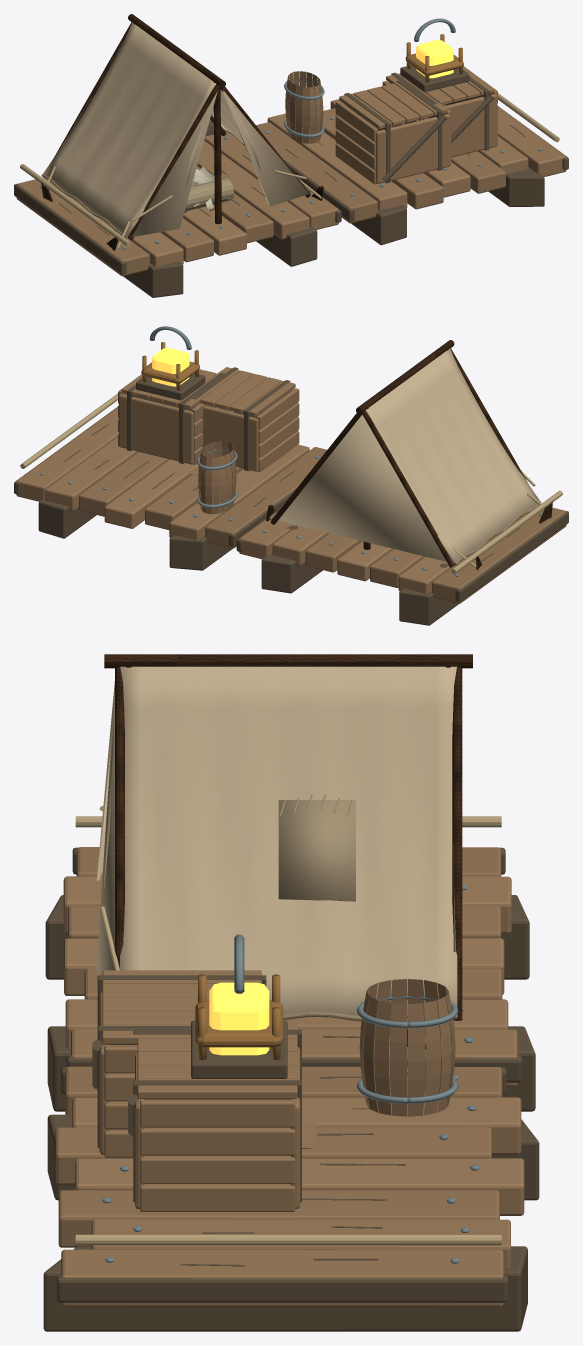
Rendered from root-decor.glb.
3 renders of one model, top to bottom at view 1: azimuth 30°, elevation 25°; view 2: azimuth 150°, elevation 25°; view 3: azimuth 270°, elevation 25°, orthographic. The views are drawn at different scales.
Visible parts, largest first — view 1: GEO-root-decor-2742, GEO-Tent-MAT-Tent-WaxedLinen, GEO-root-decor-2208, GEO-Tent-MAT-DarkTimber, GEO-root-decor-1440, GEO-DecorativeLantern-GEO-lamp-54, GEO-DecorativeLantern-GEO-lamp-148, GEO-Tent-MAT-Tent-WeatheredPatch, GEO-DecorativeLantern-Glass, GEO-root-decor-3068, GEO-Tent-MAT-Hemp; view 2: GEO-root-decor-2742, GEO-Tent-MAT-Tent-WaxedLinen, GEO-root-decor-2208, GEO-Tent-MAT-DarkTimber, GEO-root-decor-1440, GEO-DecorativeLantern-GEO-lamp-54, GEO-DecorativeLantern-GEO-lamp-148, GEO-DecorativeLantern-Glass, GEO-root-decor-3068; view 3: GEO-root-decor-2742, GEO-Tent-MAT-Tent-WaxedLinen, GEO-root-decor-2208, GEO-Tent-MAT-DarkTimber, GEO-Tent-MAT-Tent-WeatheredPatch, GEO-root-decor-1440, GEO-DecorativeLantern-Glass, GEO-DecorativeLantern-GEO-lamp-148, GEO-DecorativeLantern-GEO-lamp-54, GEO-root-decor-3068.
Boxes of the visible parts, <box> form: GEO-root-decor-2742: <box>16,66,566,276</box>; GEO-Tent-MAT-Tent-WaxedLinen: <box>43,22,311,236</box>; GEO-root-decor-2208: <box>14,72,568,297</box>; GEO-Tent-MAT-DarkTimber: <box>41,14,323,250</box>; GEO-root-decor-1440: <box>20,93,559,246</box>; GEO-DecorativeLantern-GEO-lamp-54: <box>400,65,469,92</box>; GEO-DecorativeLantern-GEO-lamp-148: <box>405,34,463,82</box>; GEO-Tent-MAT-Tent-WeatheredPatch: <box>186,178,233,210</box>; GEO-DecorativeLantern-Glass: <box>416,40,453,78</box>; GEO-root-decor-3068: <box>40,78,542,249</box>; GEO-Tent-MAT-Hemp: <box>47,126,322,248</box>; GEO-root-decor-2742: <box>16,367,566,603</box>; GEO-Tent-MAT-Tent-WaxedLinen: <box>270,348,539,563</box>; GEO-root-decor-2208: <box>14,367,568,625</box>; GEO-Tent-MAT-DarkTimber: <box>266,340,552,569</box>; GEO-root-decor-1440: <box>20,393,562,573</box>; GEO-DecorativeLantern-GEO-lamp-54: <box>136,373,205,400</box>; GEO-DecorativeLantern-GEO-lamp-148: <box>141,342,199,390</box>; GEO-DecorativeLantern-Glass: <box>152,348,189,386</box>; GEO-root-decor-3068: <box>40,448,542,576</box>; GEO-root-decor-2742: <box>55,847,524,1307</box>; GEO-Tent-MAT-Tent-WaxedLinen: <box>96,666,457,1015</box>; GEO-root-decor-2208: <box>43,847,539,1331</box>; GEO-Tent-MAT-DarkTimber: <box>104,654,472,1049</box>; GEO-Tent-MAT-Tent-WeatheredPatch: <box>278,800,355,901</box>; GEO-root-decor-1440: <box>75,816,501,1245</box>; GEO-DecorativeLantern-Glass: <box>209,982,269,1055</box>; GEO-DecorativeLantern-GEO-lamp-148: <box>195,974,283,1060</box>; GEO-DecorativeLantern-GEO-lamp-54: <box>191,1020,287,1078</box>; GEO-root-decor-3068: <box>102,884,479,1263</box>.
Bounding box in the file's own units: 4.63 × 1.88 × 2.23.
Materials: 19 (1 with a texture image).
